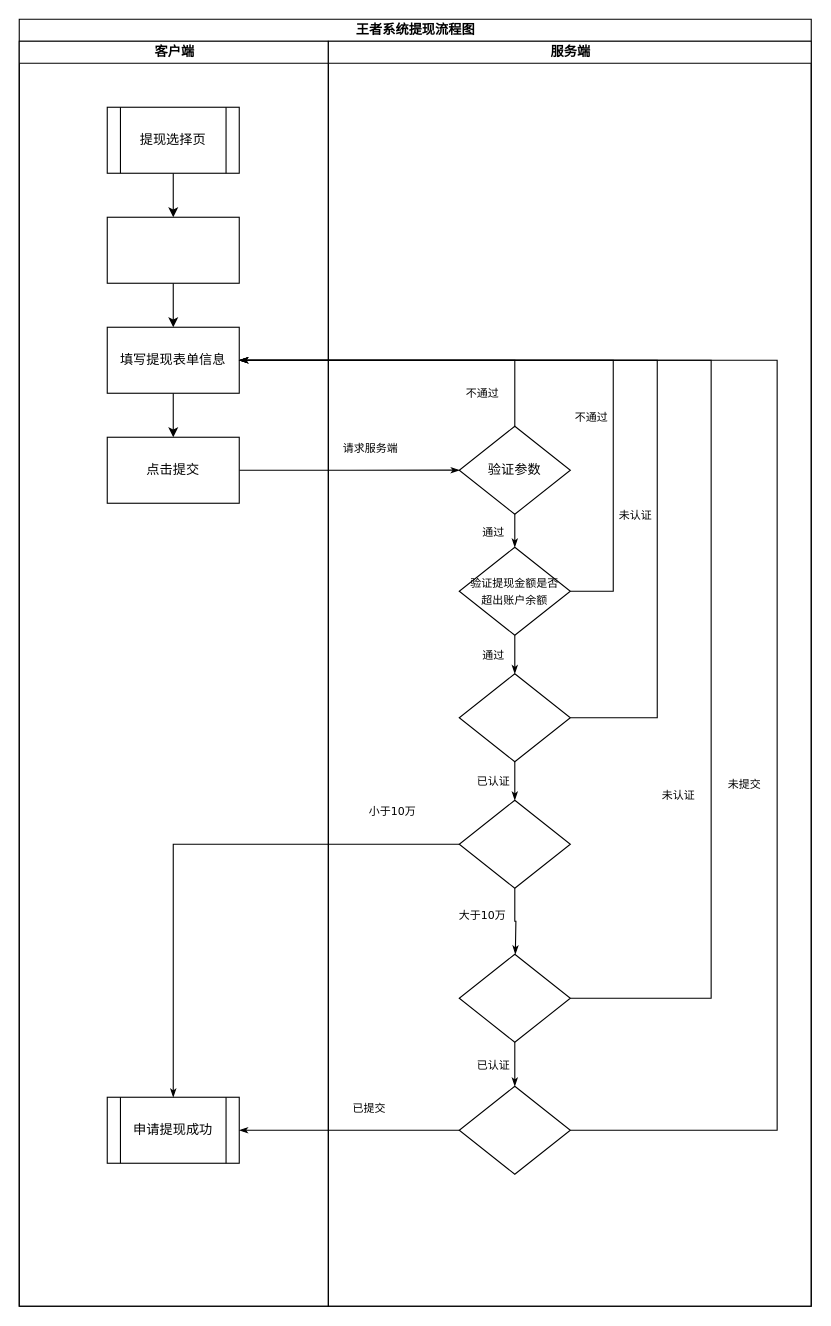
Image size: 831x1326. Some labels were removed from this diagram. Each missing label, with the centre of its shape:
选择提现方式: point (172, 249)
验证是否提交 税务凭证: point (514, 1129)
验证本月提现金额: point (514, 843)
验证账号是否 完成企业认证: point (514, 997)
验证账号是否认证: point (514, 717)
